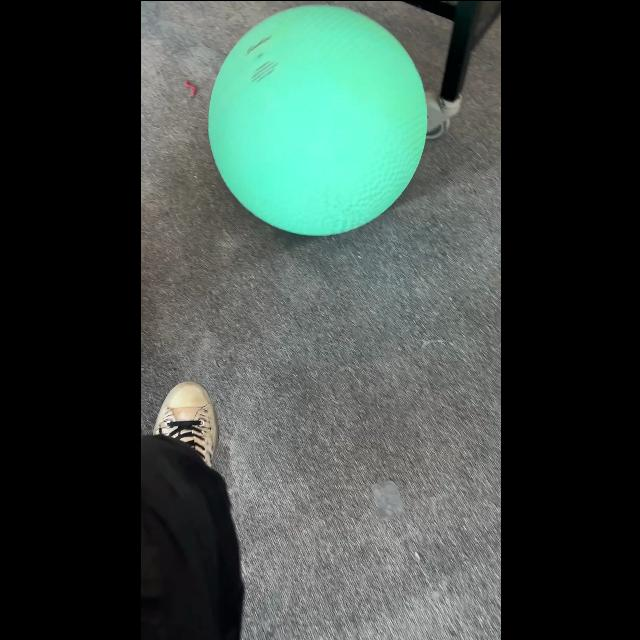ALGAE: (206, 2, 427, 236)
